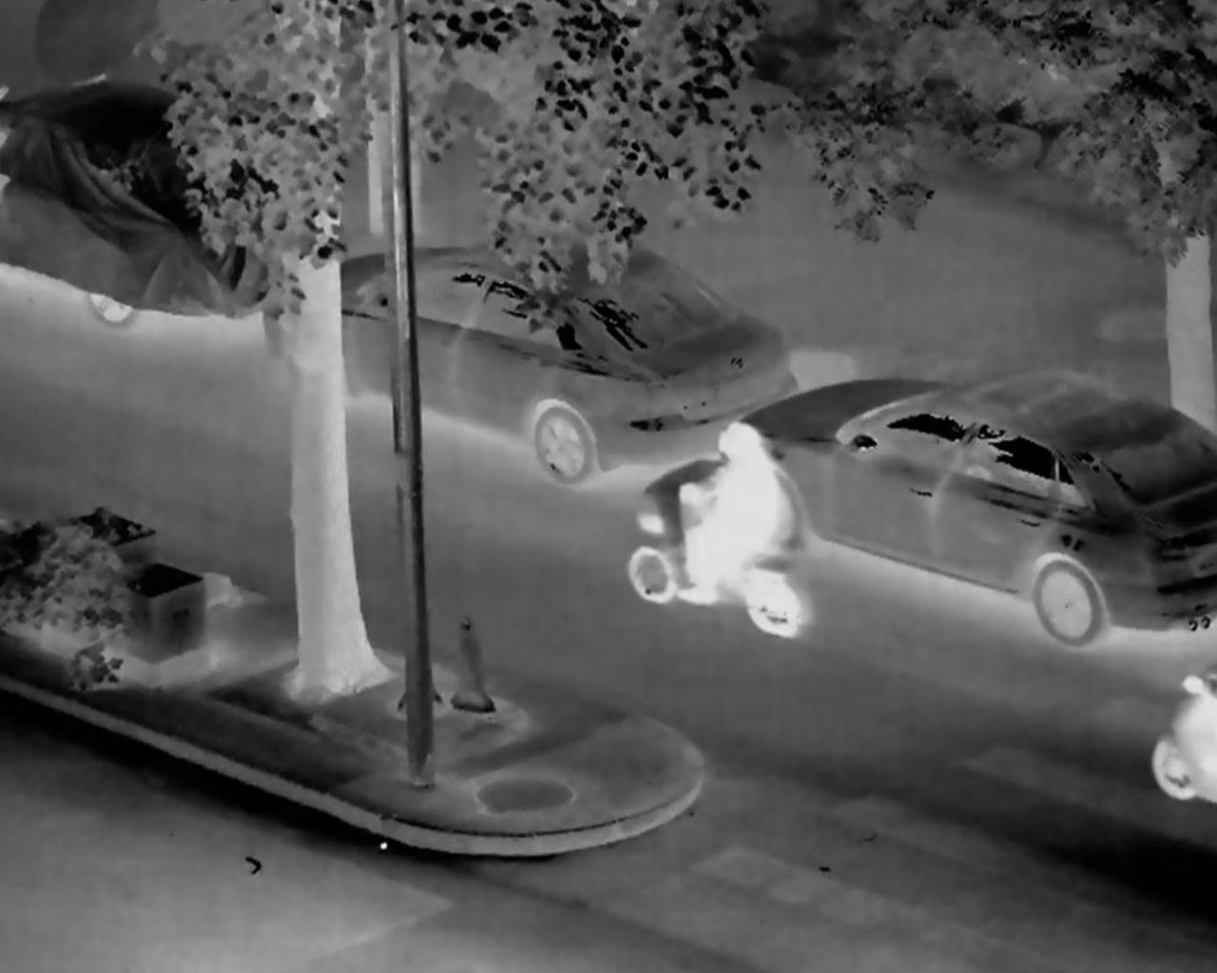person: (667, 412, 798, 603)
